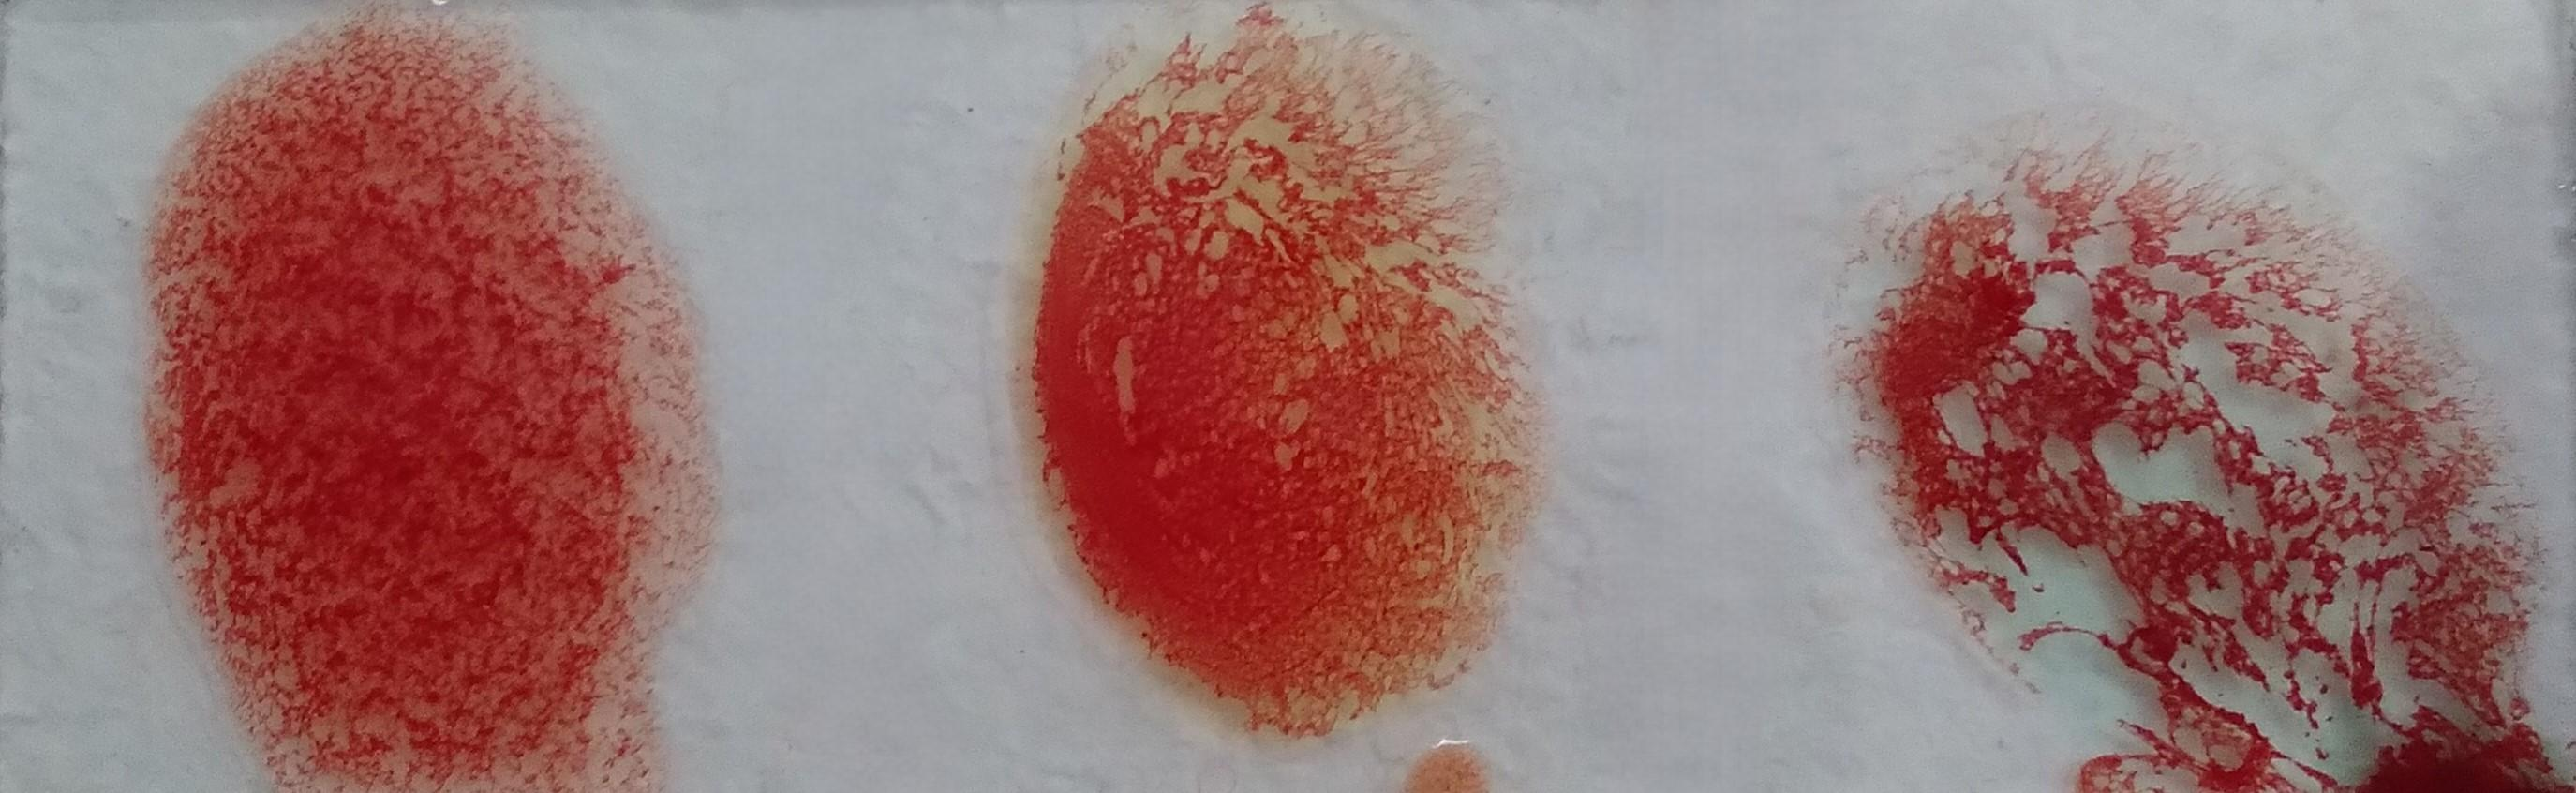A: (1865, 138, 2545, 793)
B: (1032, 28, 1518, 760)
D: (169, 26, 685, 793)
